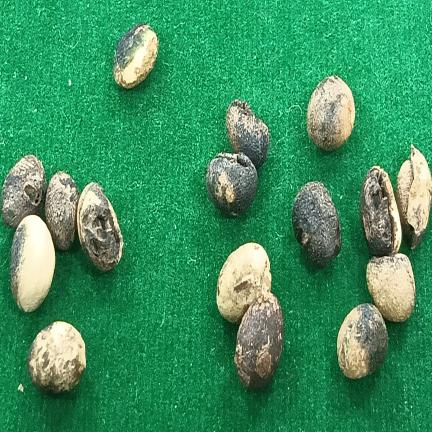partial-black: (234, 292, 284, 389), (216, 242, 272, 323), (10, 215, 55, 312), (27, 321, 86, 393), (292, 181, 341, 267), (77, 182, 123, 271), (337, 303, 388, 378), (360, 166, 402, 256), (396, 145, 432, 248), (307, 76, 355, 151), (366, 253, 416, 322), (0, 155, 47, 228), (206, 153, 257, 216), (226, 100, 269, 169), (113, 23, 158, 88), (45, 171, 79, 250)
